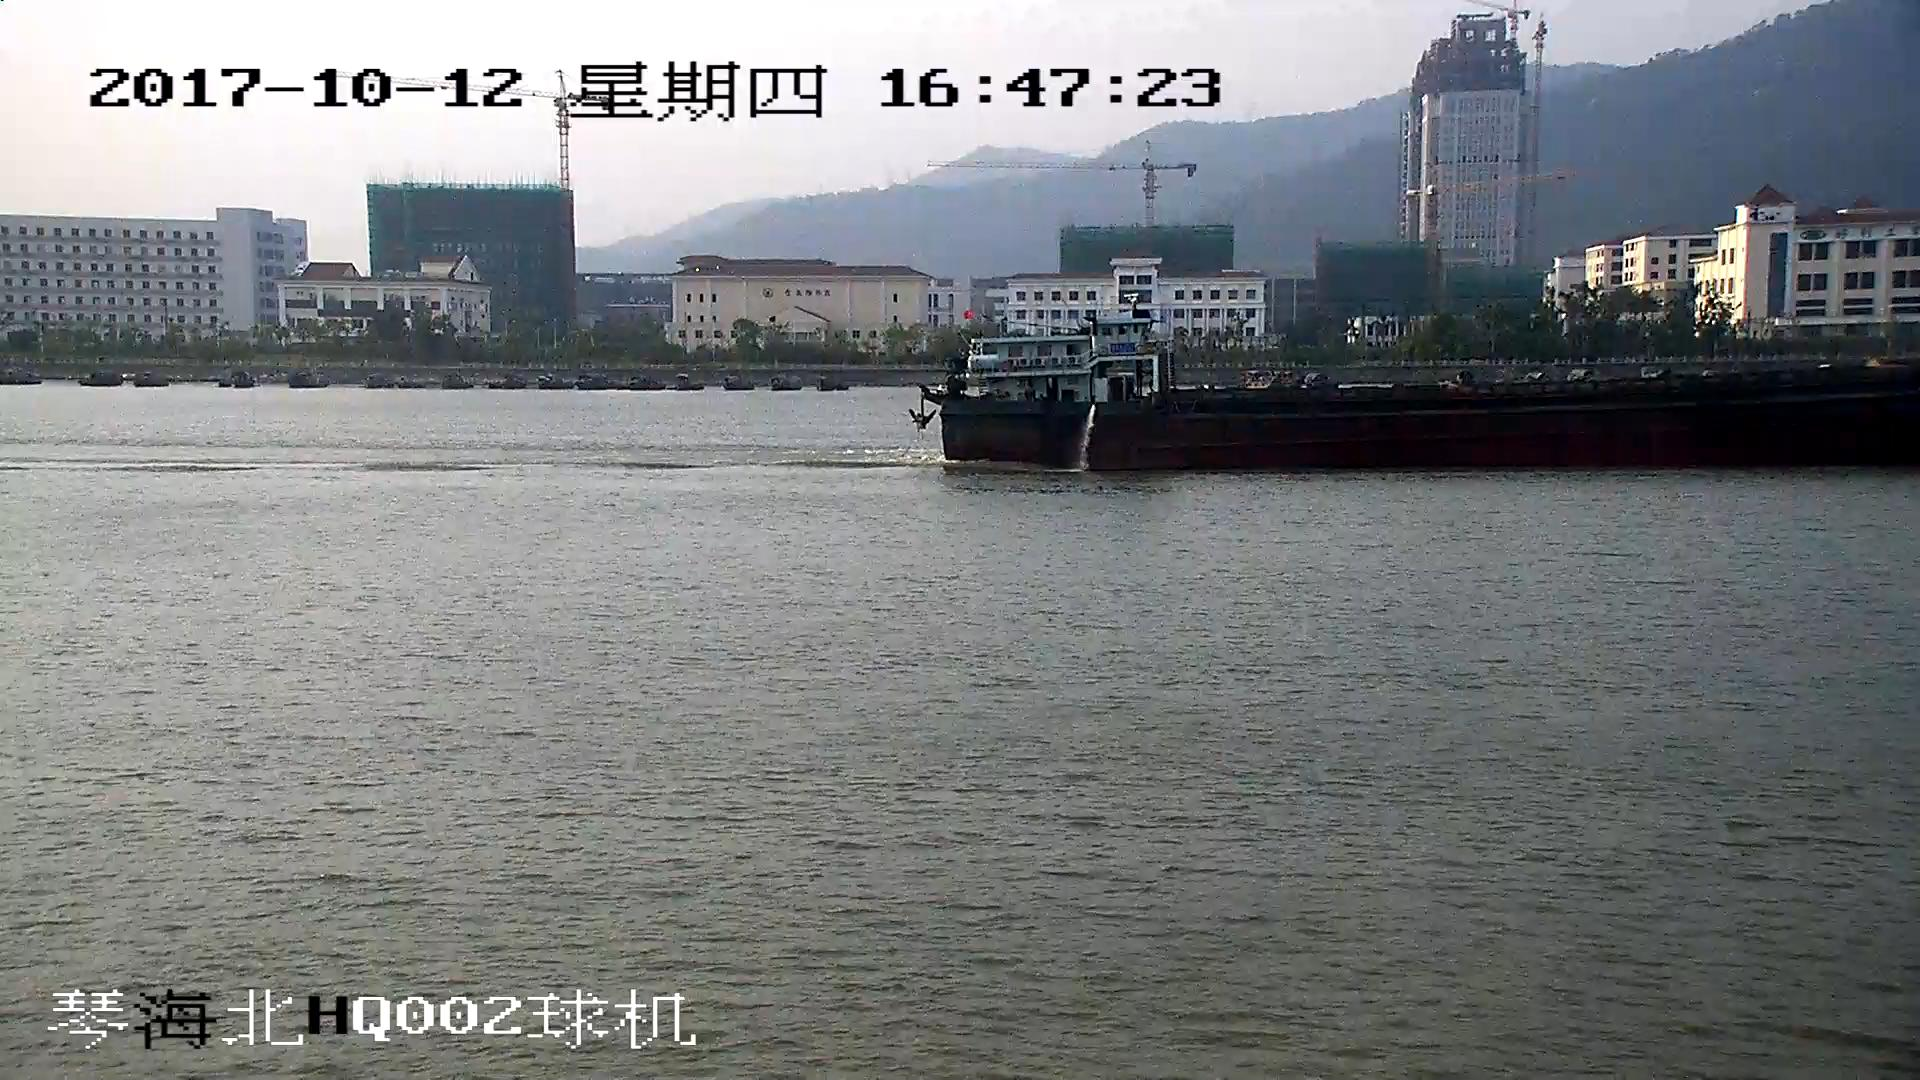bulk cargo carrier: (918, 316, 1920, 478)
